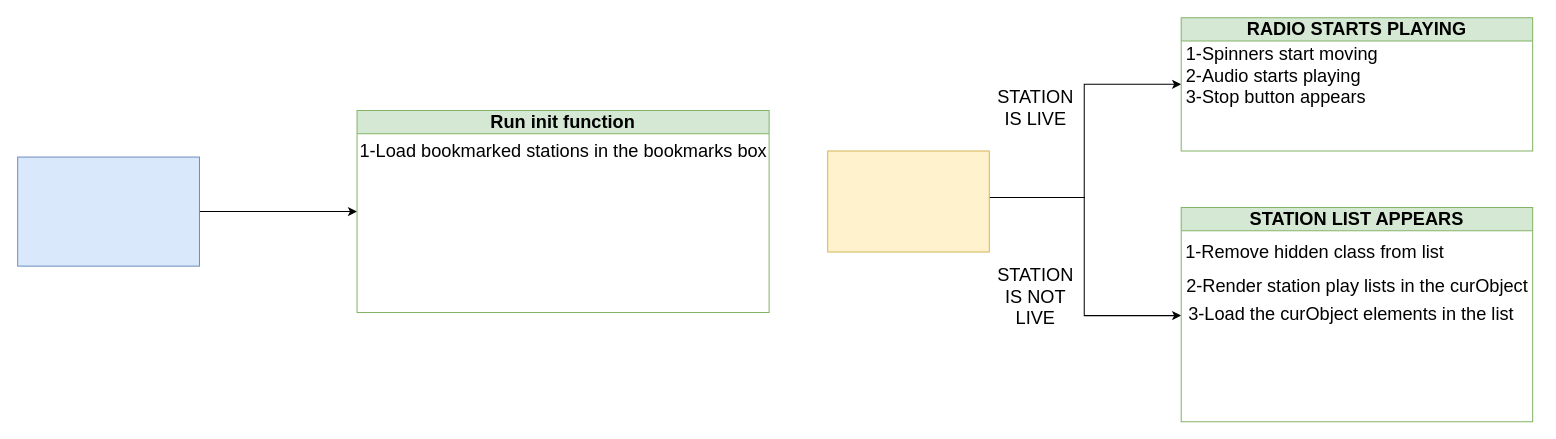
Image size: 1556x439. Some labels were removed from this diagram. Here are the shapes that lost their labels. From the top down, the centre of each, then its label:
At (108,211): "PAGE LOADS".
At (908,201): "USER CLICK ON STATION".
